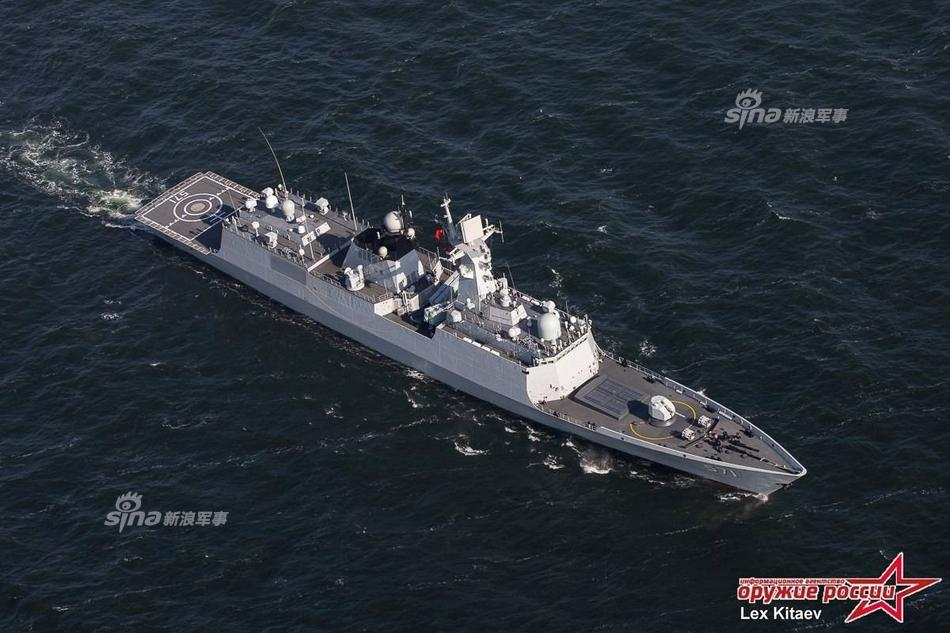warship: (135, 160, 817, 506)
